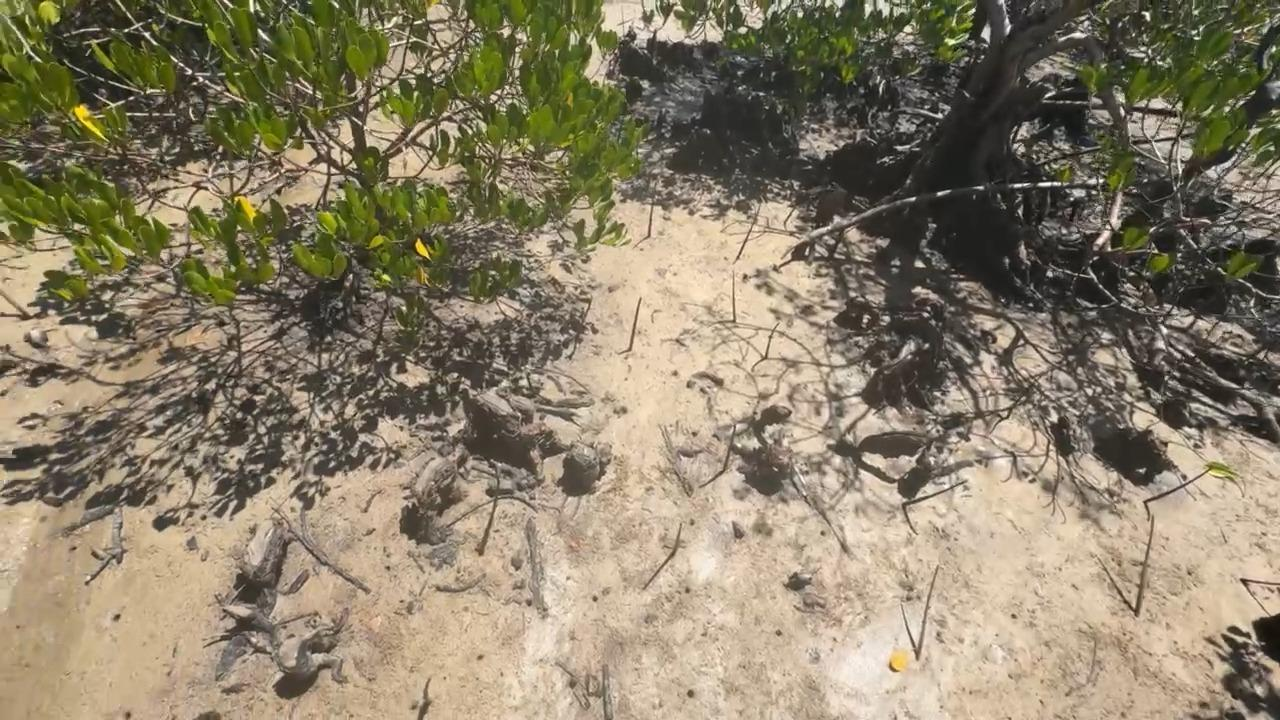Tree: (1144, 462, 1244, 502), (916, 565, 939, 659), (1134, 515, 1155, 617), (902, 478, 969, 507), (479, 480, 500, 555), (736, 203, 761, 259), (0, 287, 33, 320), (628, 298, 642, 350), (722, 424, 736, 473), (647, 182, 657, 238), (765, 323, 780, 358), (672, 523, 683, 555), (1239, 577, 1280, 585), (731, 271, 737, 322), (784, 204, 797, 224), (424, 676, 432, 704)
